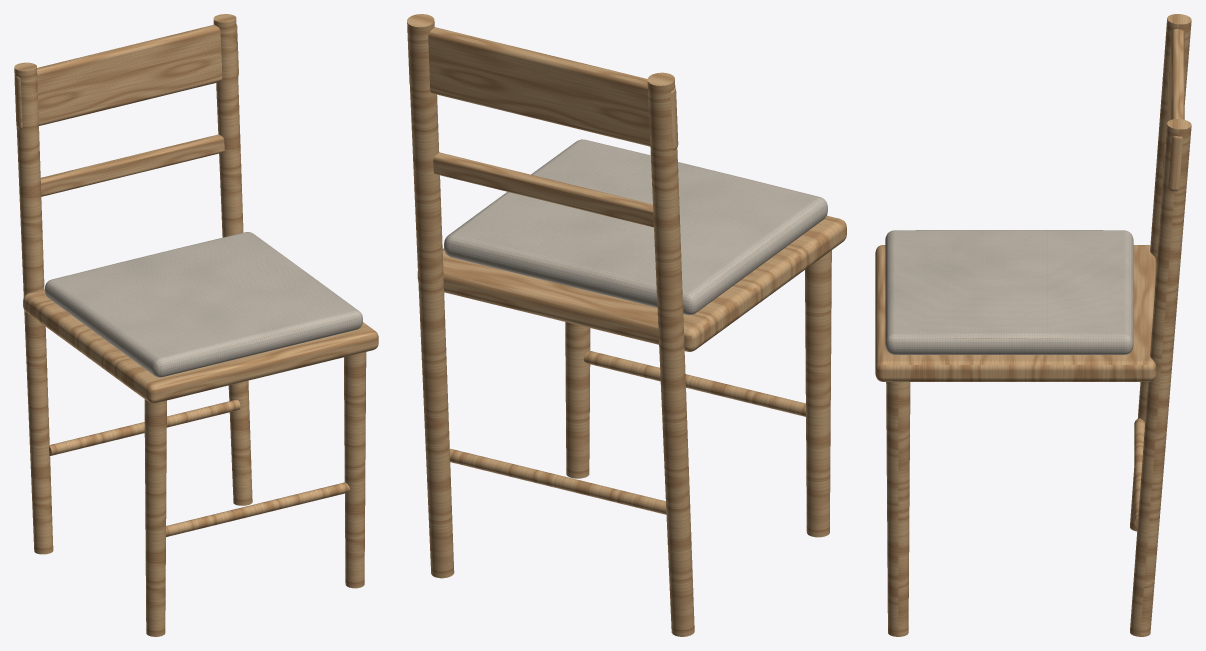
The model's file is chair_nord.glb.
3 renders of one model, left to right at view 1: azimuth 30°, elevation 25°; view 2: azimuth 150°, elevation 25°; view 3: azimuth 270°, elevation 25°, orthographic. The views are drawn at different scales.
Parts seen in each view (by area): view 1: Body; view 2: Body; view 3: Body.
Boxes of the visible parts, <box> form: Body: <box>14,14,378,636</box>; Body: <box>407,14,846,636</box>; Body: <box>875,14,1191,636</box>.
Size of what is drawn, in the model's own units: 0.44 by 0.8603 by 0.4837.
2 materials, 2 textured.
